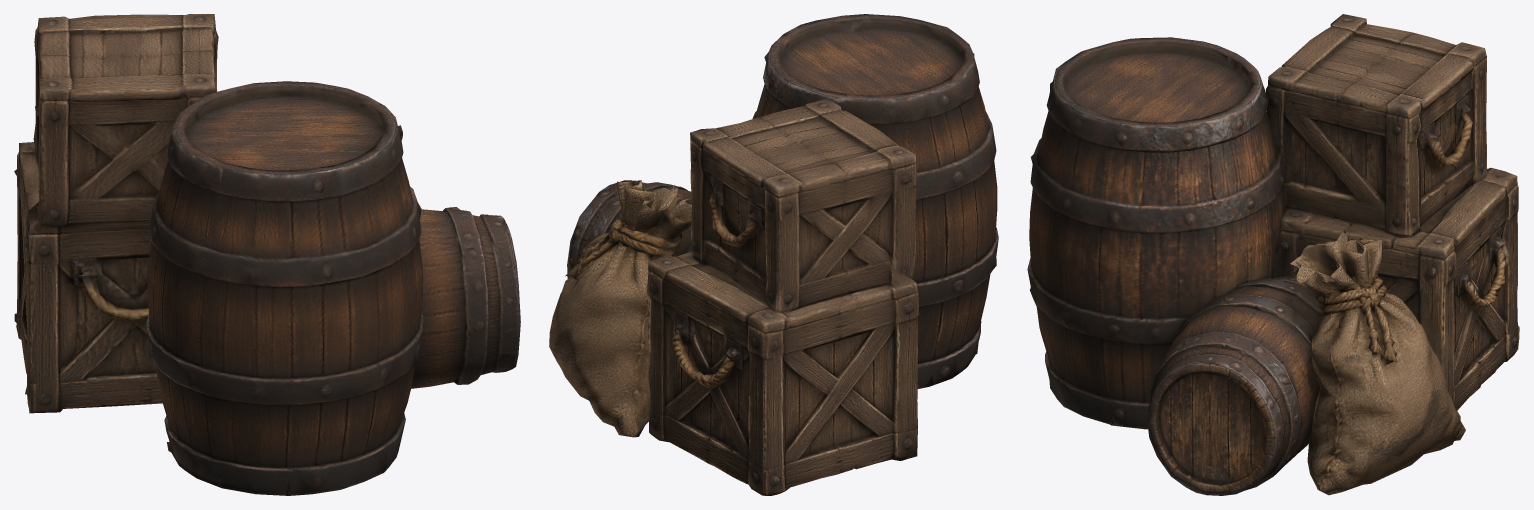
File: goods.glb
The picture shows the model from 3 angles, left to right: view 1: azimuth 30°, elevation 25°; view 2: azimuth 150°, elevation 25°; view 3: azimuth 270°, elevation 25°; orthographic projection. The views are drawn at different scales.
Visible parts, largest first — view 1: tripo_node_398d75b2-2d53-4e2e-8f66-8db891be6160; view 2: tripo_node_398d75b2-2d53-4e2e-8f66-8db891be6160; view 3: tripo_node_398d75b2-2d53-4e2e-8f66-8db891be6160.
Boxes of the visible parts, <box> form: tripo_node_398d75b2-2d53-4e2e-8f66-8db891be6160: <box>14,14,520,495</box>; tripo_node_398d75b2-2d53-4e2e-8f66-8db891be6160: <box>549,14,998,495</box>; tripo_node_398d75b2-2d53-4e2e-8f66-8db891be6160: <box>1027,14,1519,495</box>.
Bounding box in the file's own units: 0.9178 × 0.6907 × 0.9808.
Materials: 1 (1 with a texture image).
